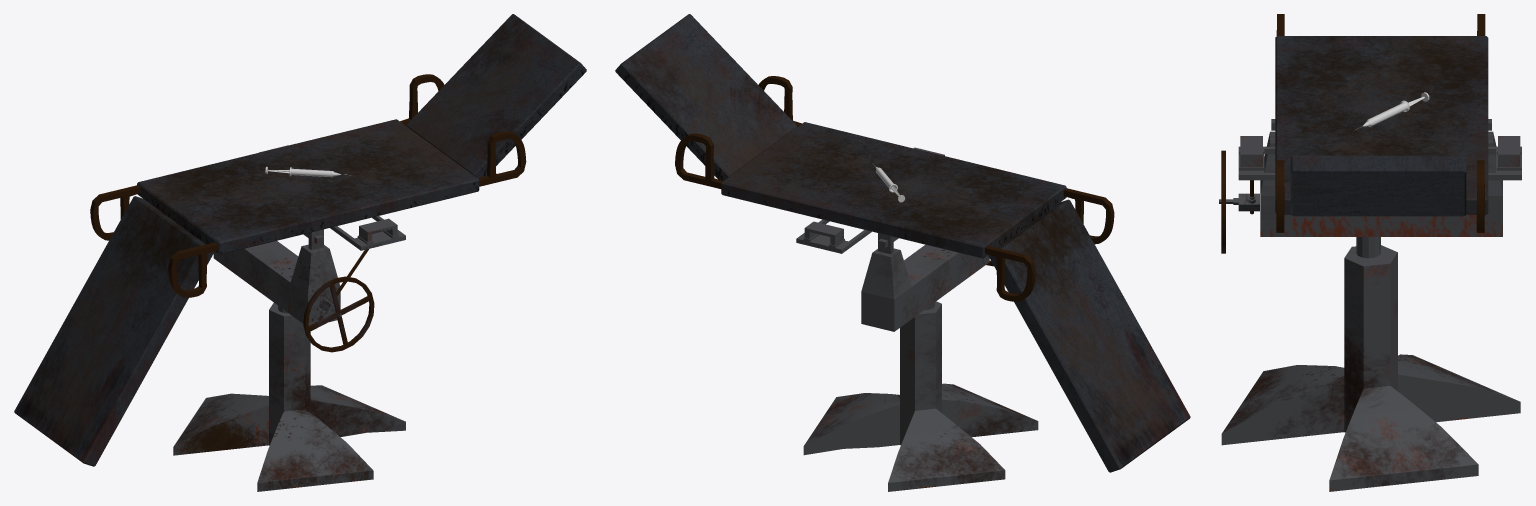
The model's file is Bed.fbx.
3 renders of one model, left to right at view 1: azimuth 30°, elevation 25°; view 2: azimuth 150°, elevation 25°; view 3: azimuth 270°, elevation 25°, orthographic. The views are drawn at different scales.
Parts seen in each view (by area): view 1: polySurface40; view 2: polySurface40; view 3: polySurface40, pCylinder34.
Part boxes in pixels (x1,y1,x2,y2): polySurface40: (14,14,586,491); polySurface40: (615,14,1190,491); polySurface40: (1219,14,1521,491); pCylinder34: (1356,92,1429,129).
Size of the model in its own units: 1.88 by 1.21 by 0.7602.
